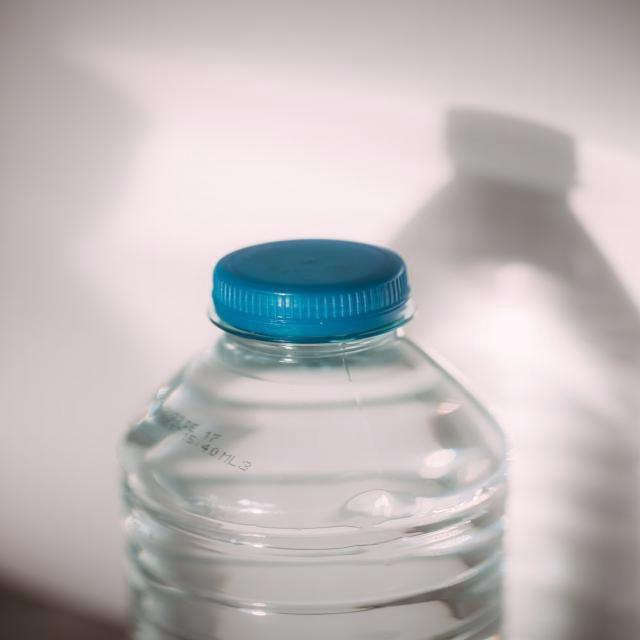bottle: (116, 237, 507, 640)
